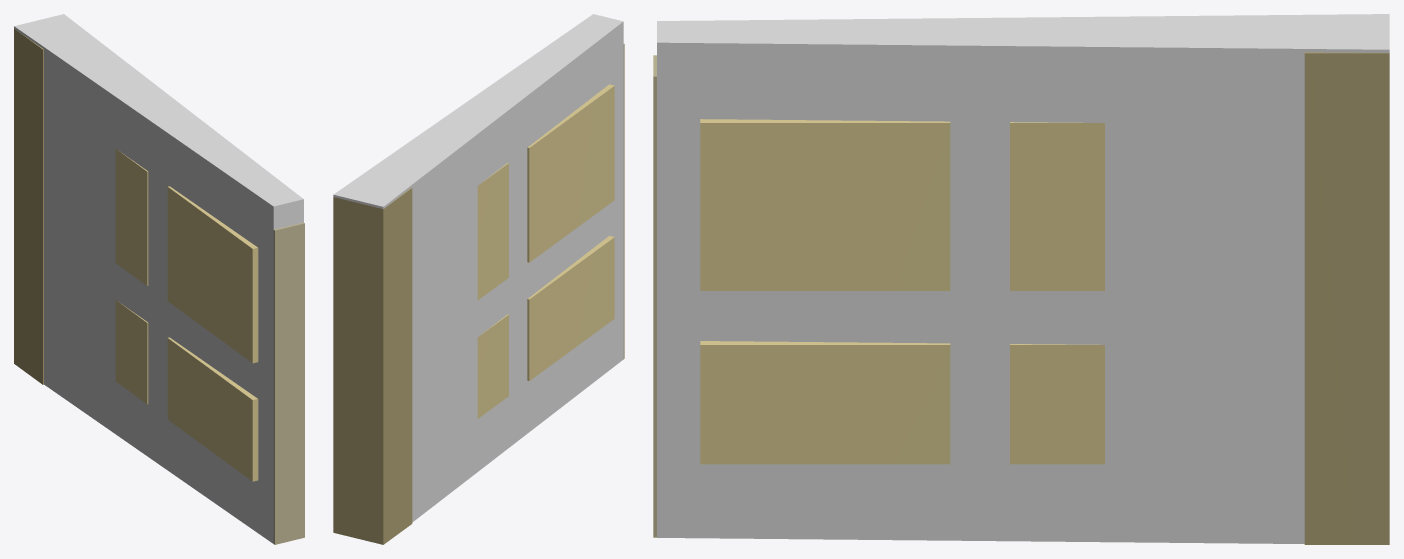
The model's file is Zabor01_B1_1_01.FBX.
The picture shows the model from 3 angles, left to right: view 1: azimuth 30°, elevation 25°; view 2: azimuth 150°, elevation 25°; view 3: azimuth 270°, elevation 25°; orthographic projection. The views are drawn at different scales.
Visible parts, largest first — view 1: Zabor01_B1_Damage_1_01, Zabor01_B1_Live_1_01; view 2: Zabor01_B1_Damage_1_01, Zabor01_B1_Live_1_01; view 3: Zabor01_B1_Damage_1_01, Zabor01_B1_Live_1_01.
Part boxes in pixels (x1=…): Zabor01_B1_Damage_1_01: x1=14, y1=14, x2=303, y2=543; Zabor01_B1_Live_1_01: x1=14, y1=28, x2=304, y2=544; Zabor01_B1_Damage_1_01: x1=333, y1=14, x2=623, y2=522; Zabor01_B1_Live_1_01: x1=333, y1=43, x2=624, y2=544; Zabor01_B1_Damage_1_01: x1=657, y1=14, x2=1389, y2=543; Zabor01_B1_Live_1_01: x1=653, y1=52, x2=1389, y2=544.
Size of the model in its own units: 0.5 by 3.22 by 4.34.
